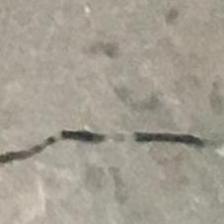Crack: (0, 112, 224, 183)
